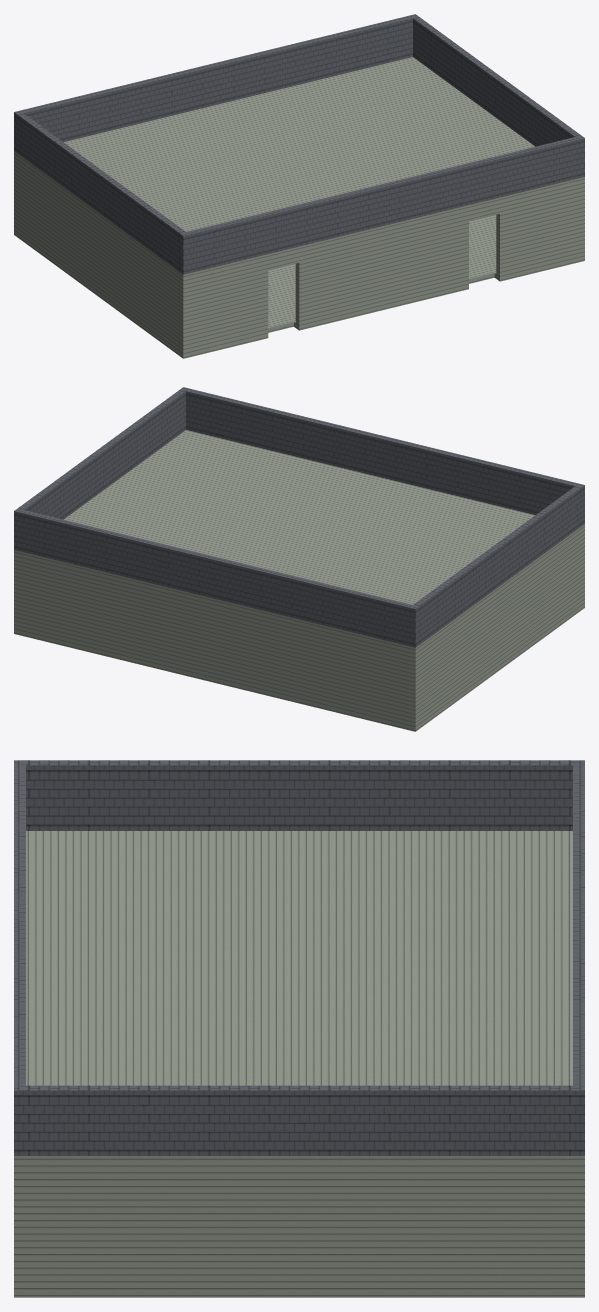
File: duplex_side_by_side.glb
The picture shows the model from 3 angles, top to bottom: view 1: azimuth 30°, elevation 25°; view 2: azimuth 150°, elevation 25°; view 3: azimuth 270°, elevation 25°; orthographic projection. The views are drawn at different scales.
Visible parts, largest first — view 1: duplex_side_by_side-col; view 2: duplex_side_by_side-col; view 3: duplex_side_by_side-col.
Part boxes in pixels (x1,y1,x2,y2): duplex_side_by_side-col: (14,14,584,358); duplex_side_by_side-col: (14,387,584,731); duplex_side_by_side-col: (14,760,584,1297).
Size of the model in its own units: 13 by 3.8 by 9.5.
Materials: 2 (2 with a texture image).
